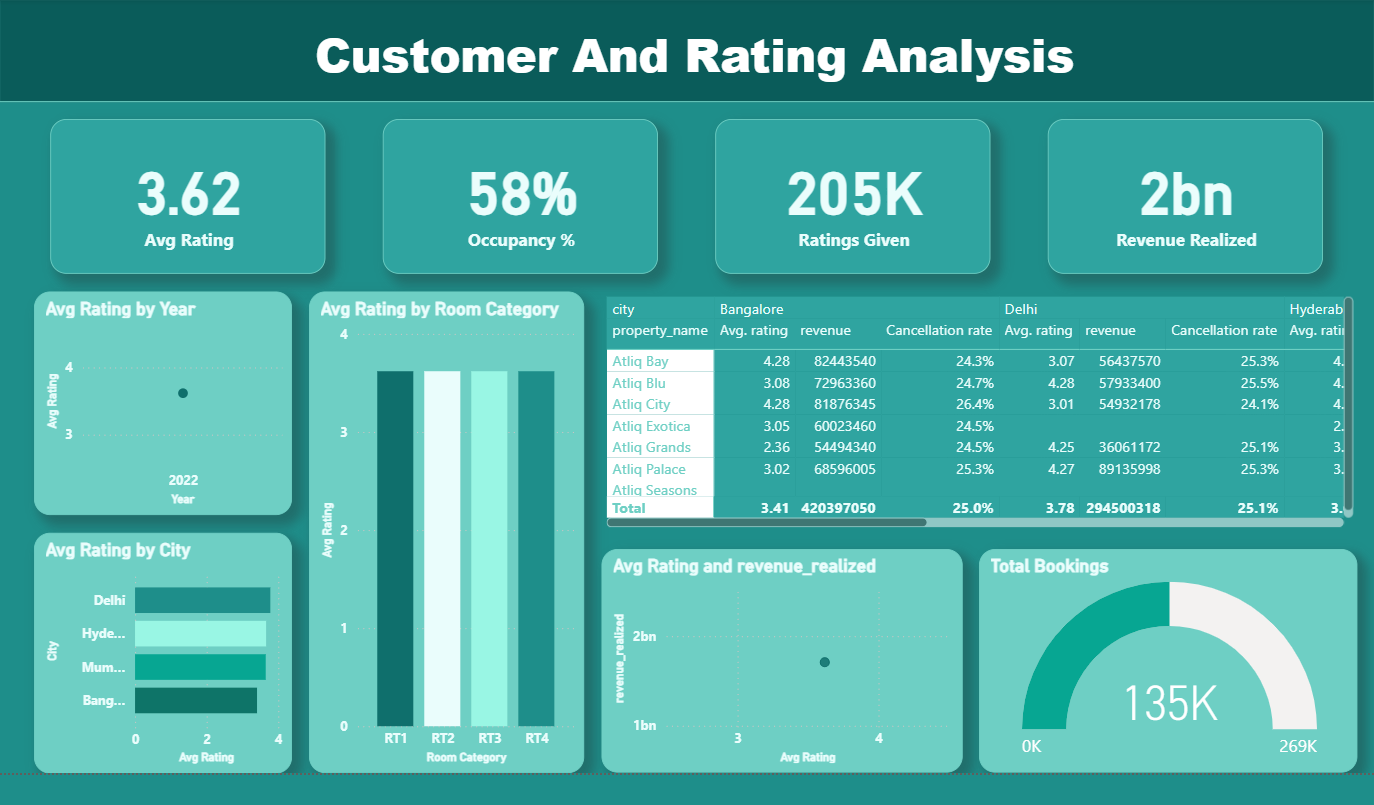

The page's visual inventory and layout, read from the dashboard file:
{"tool":"powerbi","page":{"name":"Customer And Rating Analysis","canvas":[1280,720],"ordinal":4},"visuals":[{"type":"card","fields":{"Values":["resource_measures.Avg. rating"]},"box":[48,112,256,144],"z":0},{"type":"card","fields":{"Values":["Sum(fact_bookings.ratings_given)"]},"box":[666.7,112,256,144],"z":1000},{"type":"card","fields":{"Values":["Sum(fact_bookings.revenue_realized)"]},"box":[976,112,256,144],"z":2000},{"type":"card","fields":{"Values":["resource_measures.Occupancy %"]},"box":[357.3,112,256,144],"z":3000},{"type":"lineChart","fields":{"Category":["dim_date.mmm yy.Variation.Date Hierarchy.Year","dim_date.mmm yy.Variation.Date Hierarchy.Quarter","dim_date.mmm yy.Variation.Date Hierarchy.Month","dim_date.mmm yy.Variation.Date Hierarchy.Day"],"Y":["resource_measures.Avg. rating"]},"box":[32,272,240,208],"z":4000},{"type":"barChart","fields":{"Category":["dim_hotels.city"],"Y":["resource_measures.Avg. rating"]},"box":[32,496,240,224],"z":5000},{"type":"lineClusteredColumnComboChart","fields":{"Category":["fact_aggregated_bookings.room_category"],"Y":["resource_measures.Avg. rating"]},"box":[288,272,256,448],"z":6000},{"type":"scatterChart","fields":{"X":["resource_measures.Avg. rating"],"Y":["Sum(fact_bookings.revenue_realized)"]},"box":[560,512,336,208],"z":7000},{"type":"pivotTable","fields":{"Rows":["dim_hotels.property_name"],"Columns":["dim_hotels.city"],"Values":["resource_measures.Avg. rating","resource_measures.revenue","resource_measures.Cancellation rate"]},"box":[560,272,704,224],"z":8000},{"type":"gauge","title":"Total Bookings","fields":{"Y":["resource_measures.Total bookings"]},"box":[912,512,352,208],"z":9000},{"type":"shape","box":[0,0,1280,96],"z":10000},{"type":"textbox","box":[0,16,1280,80],"z":11000}]}

Visuals, with their boxes on the page's 1280x720 design canvas (x1, y1, x2, y2). These are canvas units, not pixel positions in the 1374x805 screenshot, which may show the page scaled, cropped or inside an application window:
card - resource_measures.Avg. rating: [x1=48, y1=112, x2=304, y2=256]
card - Sum(fact_bookings.ratings_given): [x1=667, y1=112, x2=923, y2=256]
card - Sum(fact_bookings.revenue_realized): [x1=976, y1=112, x2=1232, y2=256]
card - resource_measures.Occupancy %: [x1=357, y1=112, x2=613, y2=256]
lineChart - dim_date.mmm yy.Variation.Date Hierarchy.Year x dim_date.mmm yy.Variation.Date Hierarchy.Quarter: [x1=32, y1=272, x2=272, y2=480]
barChart - dim_hotels.city x resource_measures.Avg. rating: [x1=32, y1=496, x2=272, y2=720]
lineClusteredColumnComboChart - fact_aggregated_bookings.room_category x resource_measures.Avg. rating: [x1=288, y1=272, x2=544, y2=720]
scatterChart - resource_measures.Avg. rating x Sum(fact_bookings.revenue_realized): [x1=560, y1=512, x2=896, y2=720]
pivotTable - dim_hotels.property_name x dim_hotels.city: [x1=560, y1=272, x2=1264, y2=496]
"Total Bookings" gauge: [x1=912, y1=512, x2=1264, y2=720]
shape: [x1=0, y1=0, x2=1280, y2=96]
textbox: [x1=0, y1=16, x2=1280, y2=96]
